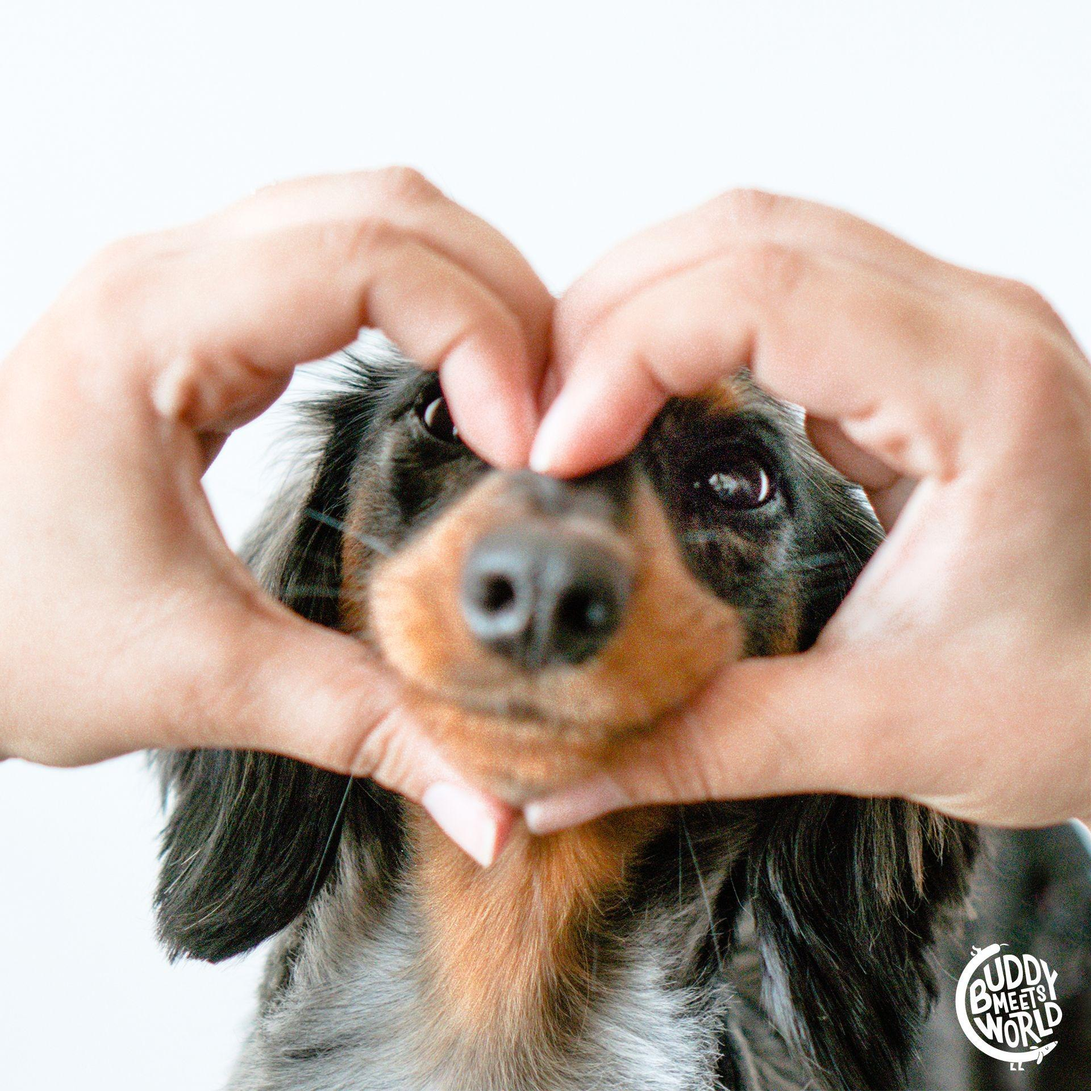adult_dog: (143, 331, 1091, 1091)
